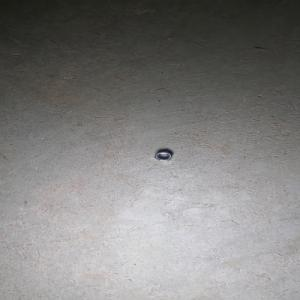Nut: (154, 150, 173, 161)
